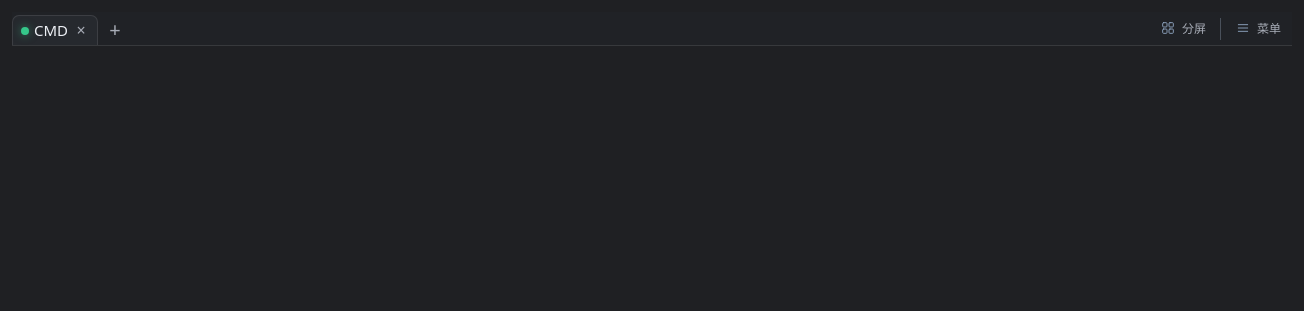
Scenario: WorkspaceTabs › keeps the split menu available while a local terminal tab is active
This screenshot has width=1304, height=311.
What coordinates should you click on to do the following:
click the button with class "split-mode-button"
I would click on:
 (1183, 28)
Its box is [1149,12,1217,45].
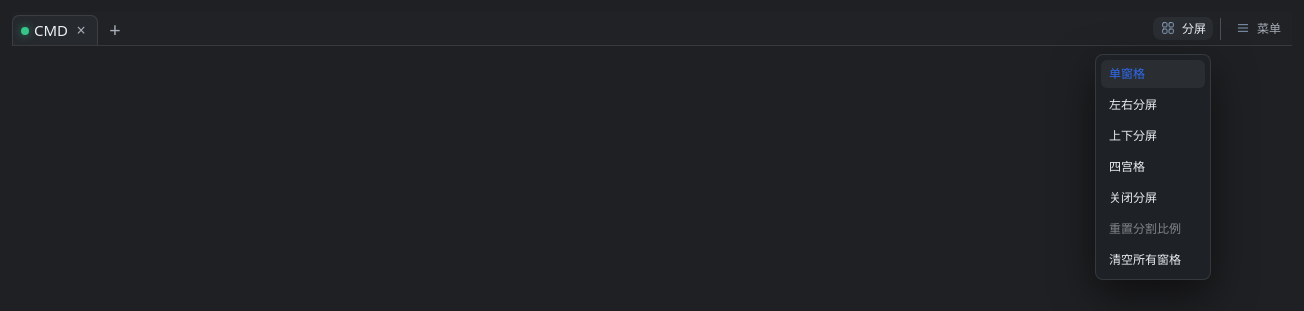
Result: the button "四宫格" is shown at [1101,153,1205,181]
